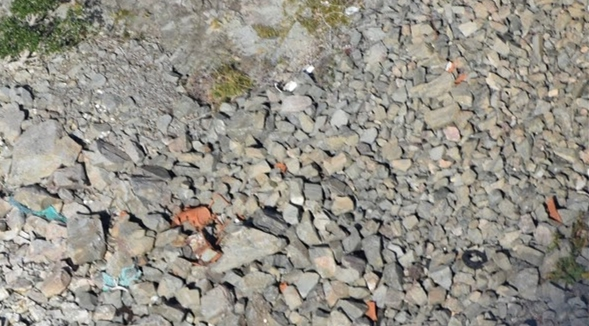net: (4, 191, 66, 224), (97, 262, 147, 291)
white_in_green: (146, 181, 240, 257), (256, 50, 335, 117), (439, 227, 511, 287), (517, 178, 589, 238), (346, 286, 395, 326)
